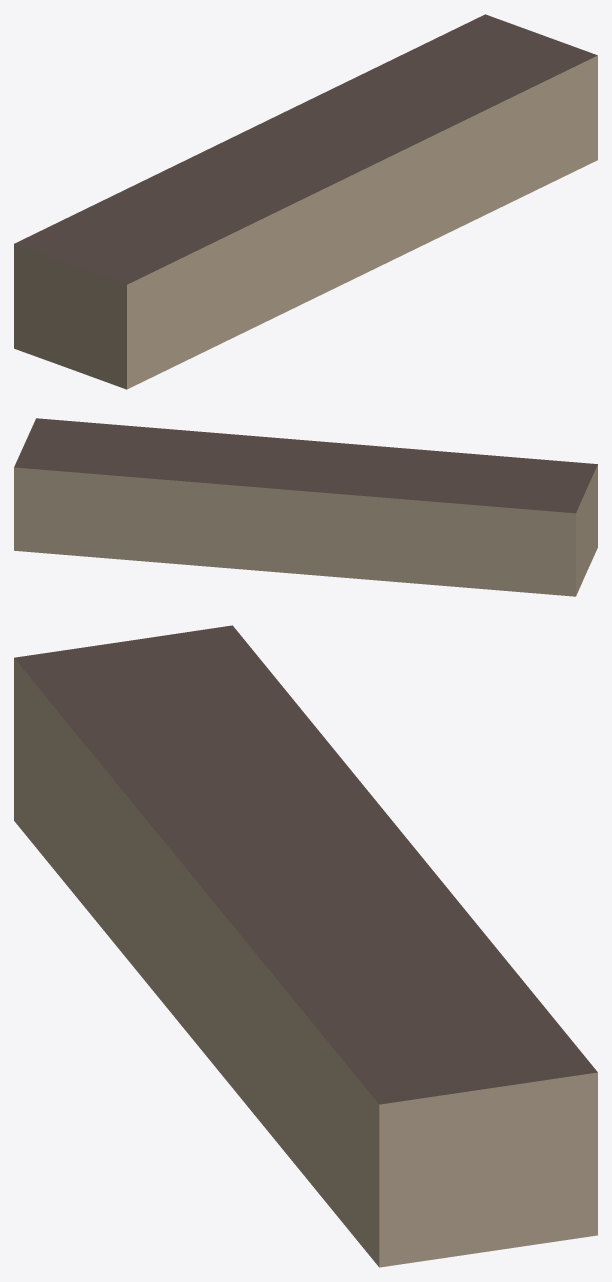
3 views of the same model, one above another, from view 1: azimuth 30°, elevation 25°; view 2: azimuth 150°, elevation 25°; view 3: azimuth 270°, elevation 25° (orthographic). The views are drawn at different scales.
Parts seen in each view (by area): view 1: HP-w1215633429; view 2: HP-w1215633429; view 3: HP-w1215633429.
Part boxes in pixels (left/top/right/bottom): HP-w1215633429: left=14, top=14, right=597, bottom=389; HP-w1215633429: left=14, top=418, right=597, bottom=596; HP-w1215633429: left=14, top=625, right=597, bottom=1267.
Size of the model in its own units: 56.75 by 9 by 29.23.
